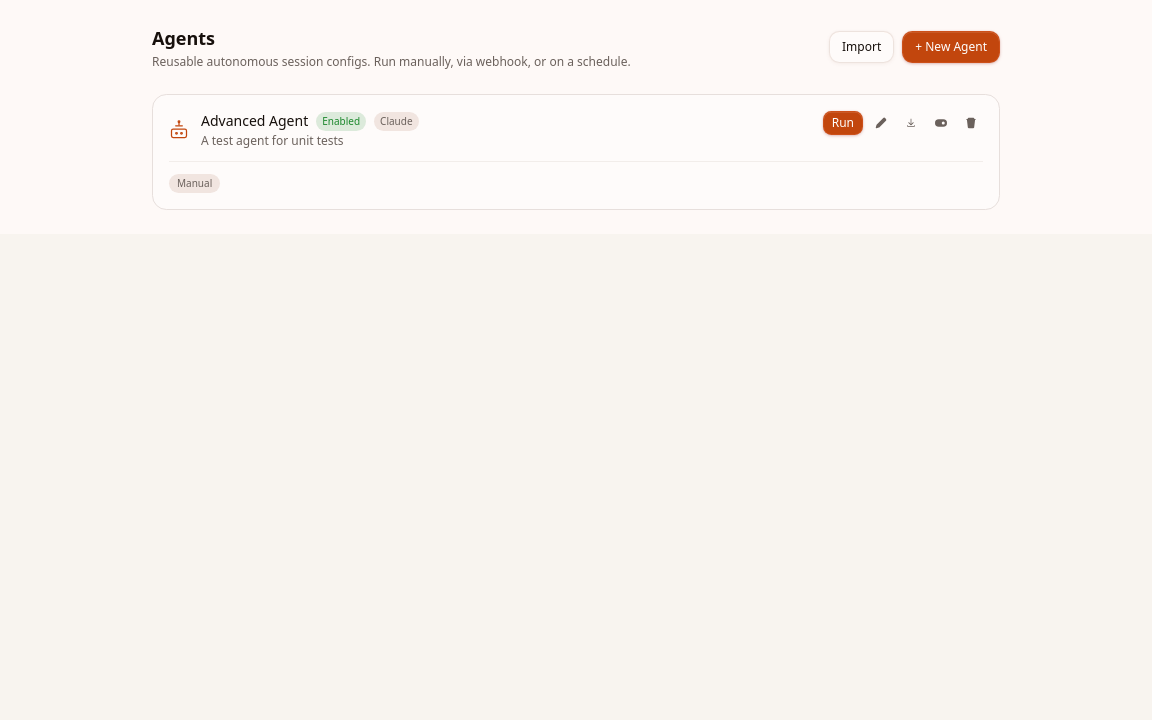
AgentsPage › Advanced section auto-expands when editing agent with advanced config
Check: the heading "Advanced Agent" is shown, box top-left (201, 111), bottom-right (308, 131)
Click the button titled "Edit". click: (881, 123)
box: top-left (869, 111), bottom-right (893, 135)
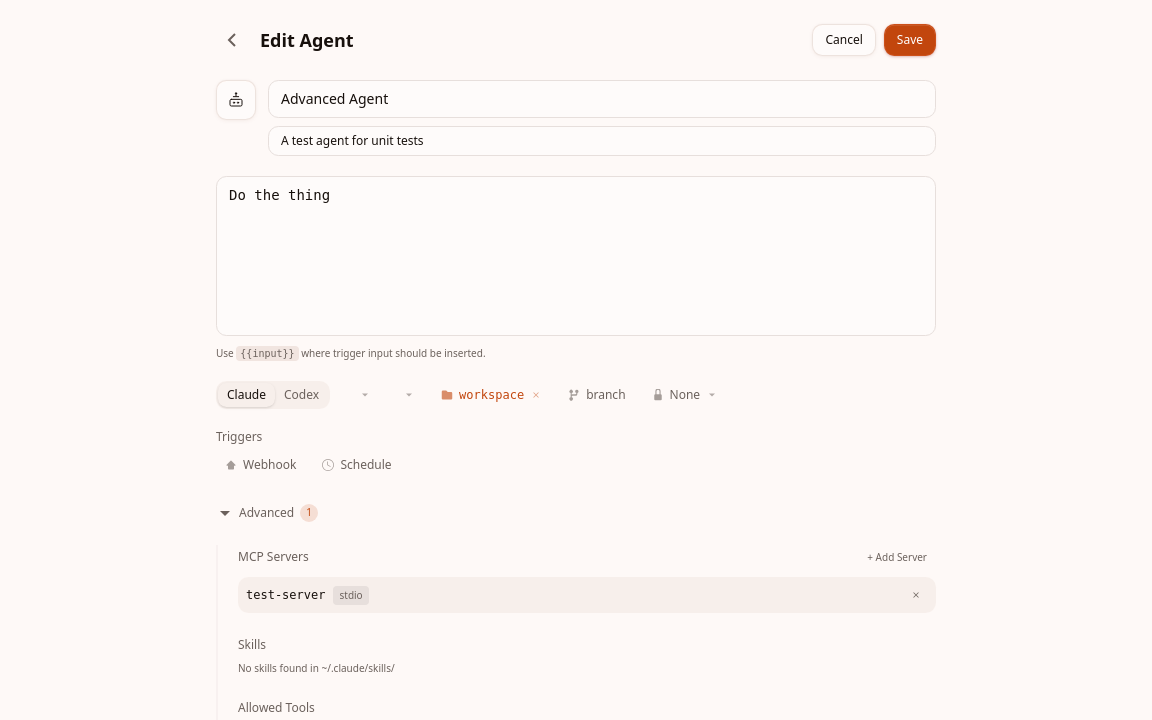
Check: the heading "MCP Servers" is shown, box top-left (238, 549), bottom-right (309, 565)
Check: the text "test-server" is shown, box top-left (246, 587), bottom-right (326, 603)
